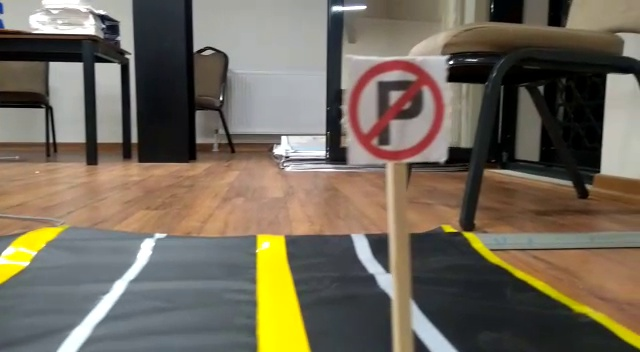park_yapilmaz: (345, 52, 448, 160)
